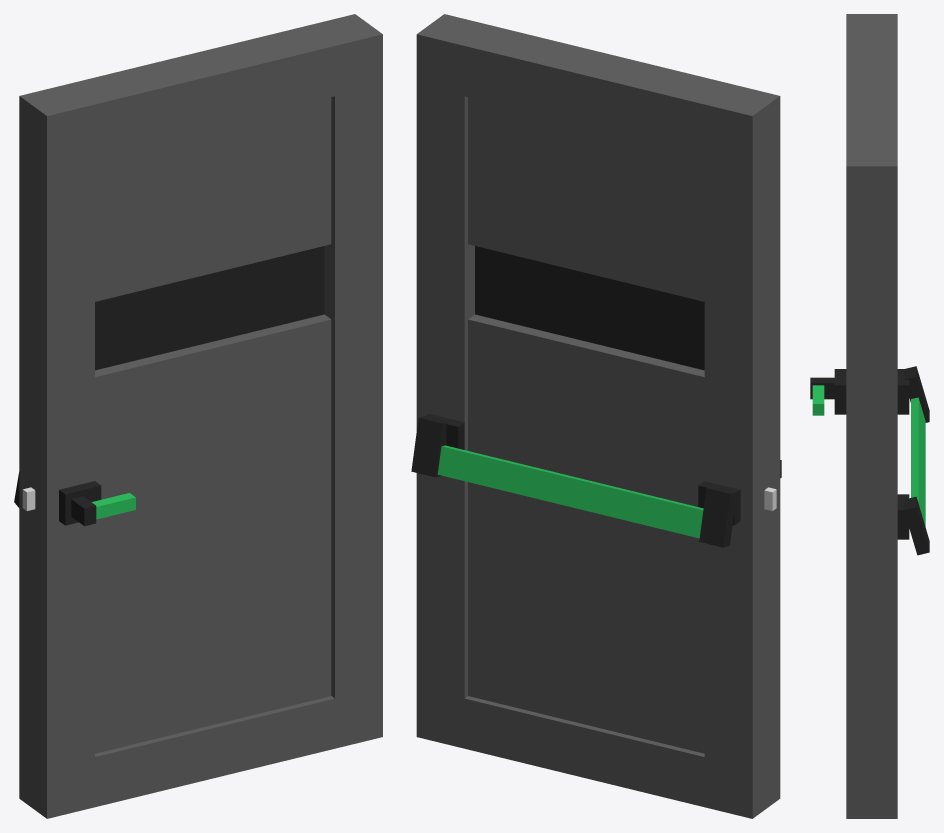
The model's file is door.fbx.
3 renders of one model, left to right at view 1: azimuth 30°, elevation 25°; view 2: azimuth 150°, elevation 25°; view 3: azimuth 270°, elevation 25°, orthographic. The views are drawn at different scales.
Visible parts, largest first — view 1: cube_3, cube, cube_9, cube_10, cube_1, glass, cube_2, cube_11, cube_13; view 2: cube_3, cube, cube_9, cube_10, cube_1, glass, cube_2, cube_8, cube_6, cube_7; view 3: cube_9, cube_1, cube_8, cube, cube_7, cube_6, cube_11, cube_4, cube_5, cube_12, cube_13.
Part boxes in pixels (left/top/right/bottom): cube_3: left=95, top=314, right=331, bottom=753; cube: left=19, top=84, right=94, bottom=818; cube_9: left=307, top=14, right=382, bottom=748; cube_10: left=95, top=97, right=331, bottom=301; cube_1: left=67, top=26, right=334, bottom=154; glass: left=95, top=246, right=324, bottom=370; cube_2: left=95, top=696, right=334, bottom=807; cube_11: left=59, top=481, right=101, bottom=525; cube_13: left=91, top=493, right=135, bottom=519; cube_3: left=468, top=314, right=704, bottom=753; cube: left=704, top=84, right=780, bottom=818; cube_9: left=416, top=14, right=491, bottom=748; cube_10: left=468, top=97, right=704, bottom=301; cube_1: left=464, top=25, right=731, bottom=154; glass: left=475, top=246, right=704, bottom=370; cube_2: left=464, top=696, right=704, bottom=807; cube_8: left=437, top=445, right=703, bottom=538; cube_6: left=699, top=486, right=736, bottom=547; cube_7: left=411, top=416, right=448, bottom=477; cube_9: left=846, top=144, right=897, bottom=818; cube_1: left=846, top=35, right=897, bottom=144; cube_8: left=911, top=397, right=925, bottom=526; cube: left=846, top=14, right=897, bottom=35; cube_7: left=904, top=496, right=929, bottom=555; cube_6: left=904, top=366, right=929, bottom=422; cube_11: left=834, top=369, right=846, bottom=414; cube_4: left=897, top=369, right=909, bottom=414; cube_5: left=897, top=494, right=909, bottom=539; cube_12: left=810, top=377, right=834, bottom=399; cube_13: left=812, top=385, right=824, bottom=415.
Bounding box in the file's own units: 89.69 × 175 × 29.07.
Materials: 4 (4 with a texture image).
